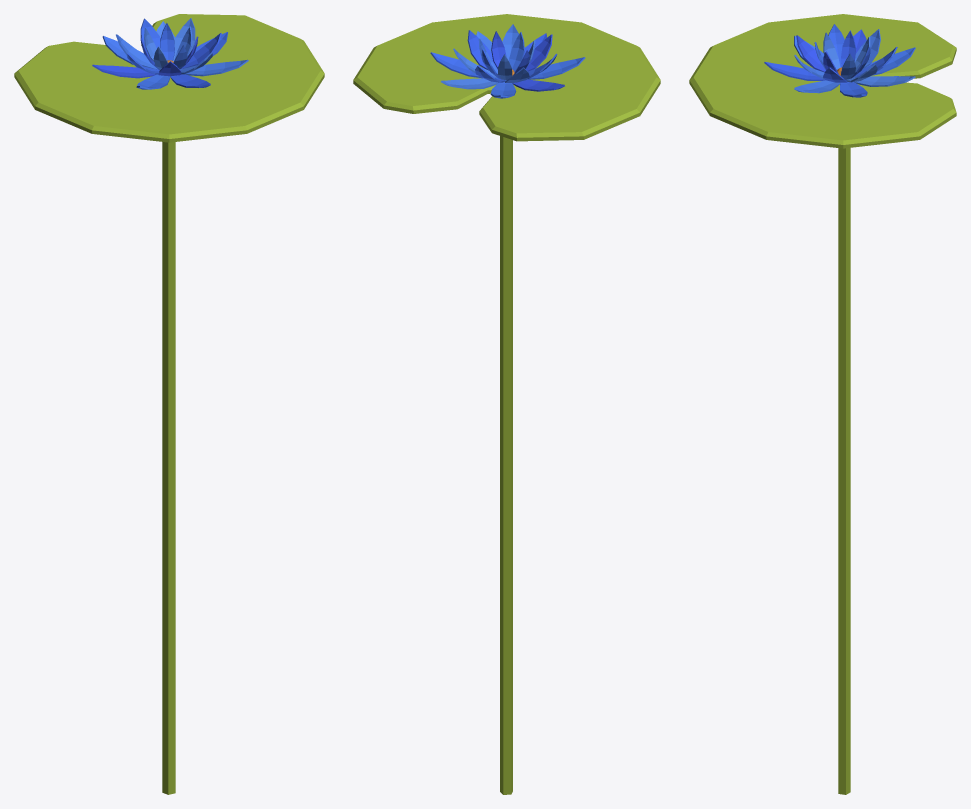
Rendered from NHP_LilyPad_LP_A2_03.fbx.
3 renders of one model, left to right at view 1: azimuth 30°, elevation 25°; view 2: azimuth 150°, elevation 25°; view 3: azimuth 270°, elevation 25°, orthographic.
Visible parts, largest first — view 1: NHP_LilyPad_LP_A2_03_LOD0; view 2: NHP_LilyPad_LP_A2_03_LOD0; view 3: NHP_LilyPad_LP_A2_03_LOD0.
Part boxes in pixels (bbox=[...]): NHP_LilyPad_LP_A2_03_LOD0: bbox=[14, 14, 324, 794]; NHP_LilyPad_LP_A2_03_LOD0: bbox=[353, 14, 660, 794]; NHP_LilyPad_LP_A2_03_LOD0: bbox=[689, 14, 956, 794].
Size of what is drawn, in the model's own units: 0.785 by 2.11 by 0.6819.
